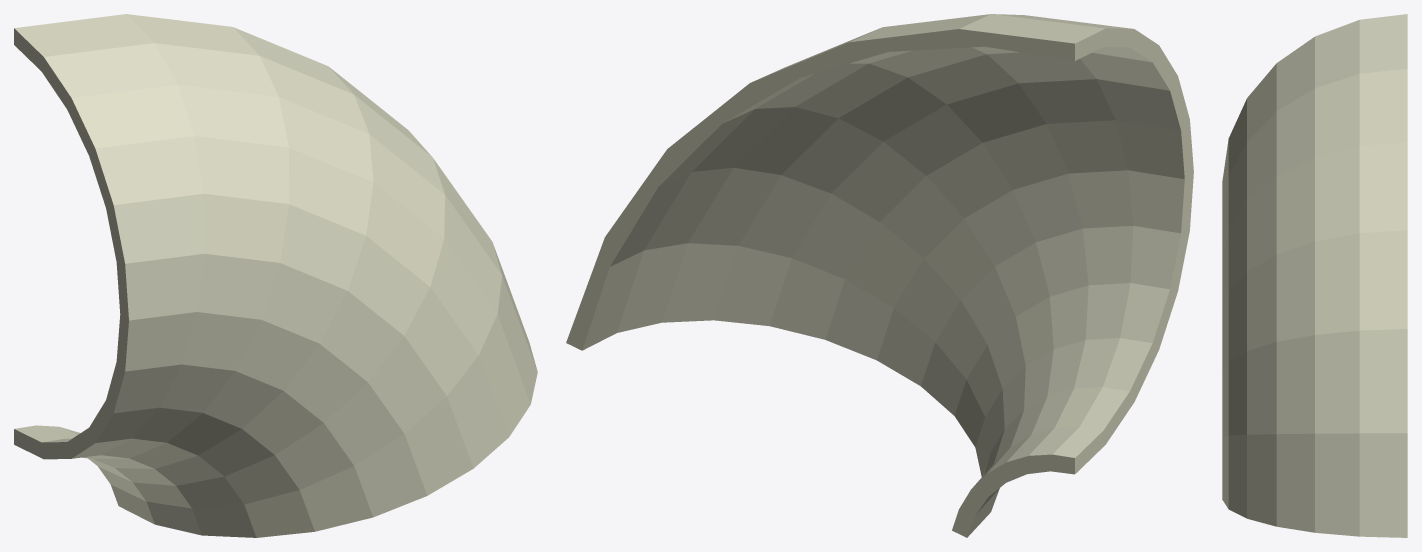
The model's file is section_031.obj.
The picture shows the model from 3 angles, left to right: view 1: azimuth 30°, elevation 25°; view 2: azimuth 150°, elevation 25°; view 3: azimuth 270°, elevation 25°; orthographic projection. The views are drawn at different scales.
Size of the model in its own units: 32.15 by 31.42 by 13.
